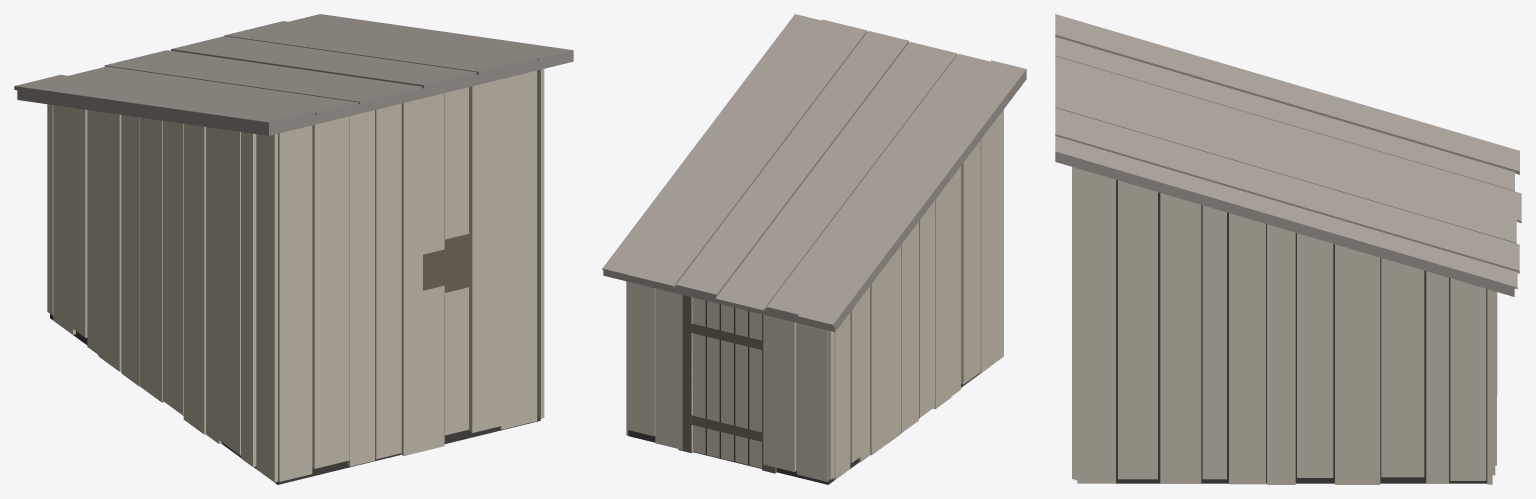
File: recon_1835_north_a4_035__inferred_1835.glb
3 views of the same model, side by side, from view 1: azimuth 30°, elevation 25°; view 2: azimuth 150°, elevation 25°; view 3: azimuth 270°, elevation 25° (orthographic). The views are drawn at different scales.
Parts seen in each view (by area): view 1: recon_1835_north_a4_035__inferred_1835; view 2: recon_1835_north_a4_035__inferred_1835; view 3: recon_1835_north_a4_035__inferred_1835.
Boxes of the visible parts, bbox=[...] form: recon_1835_north_a4_035__inferred_1835: bbox=[14, 14, 573, 484]; recon_1835_north_a4_035__inferred_1835: bbox=[602, 14, 1026, 484]; recon_1835_north_a4_035__inferred_1835: bbox=[1055, 14, 1521, 484].
Size of the model in its own units: 2.82 by 3.34 by 4.11.
